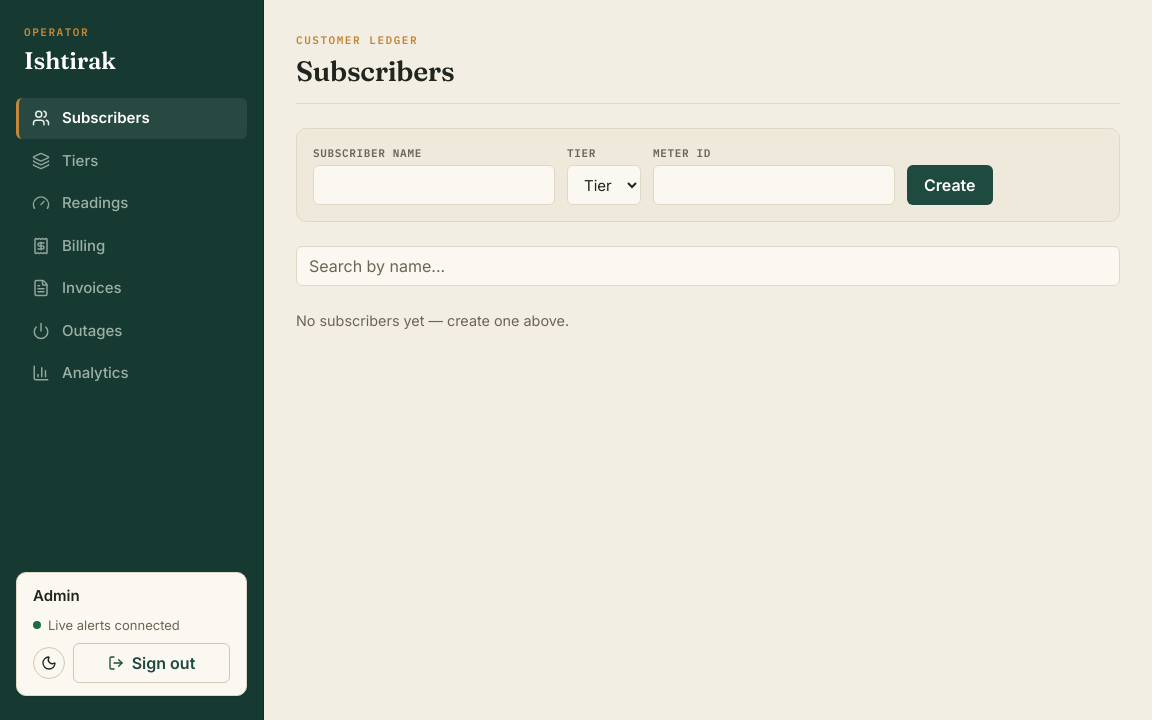
Scenario: operator form error handling › surfaces a gateway error when creating a subscriber fails
The image size is (1152, 720).
Expected: the text "Customer ledger" is shown, [296, 33, 418, 47]
Type "Maya" into the field labelled "Subscriber name" at (434, 185), box [313, 165, 555, 205]
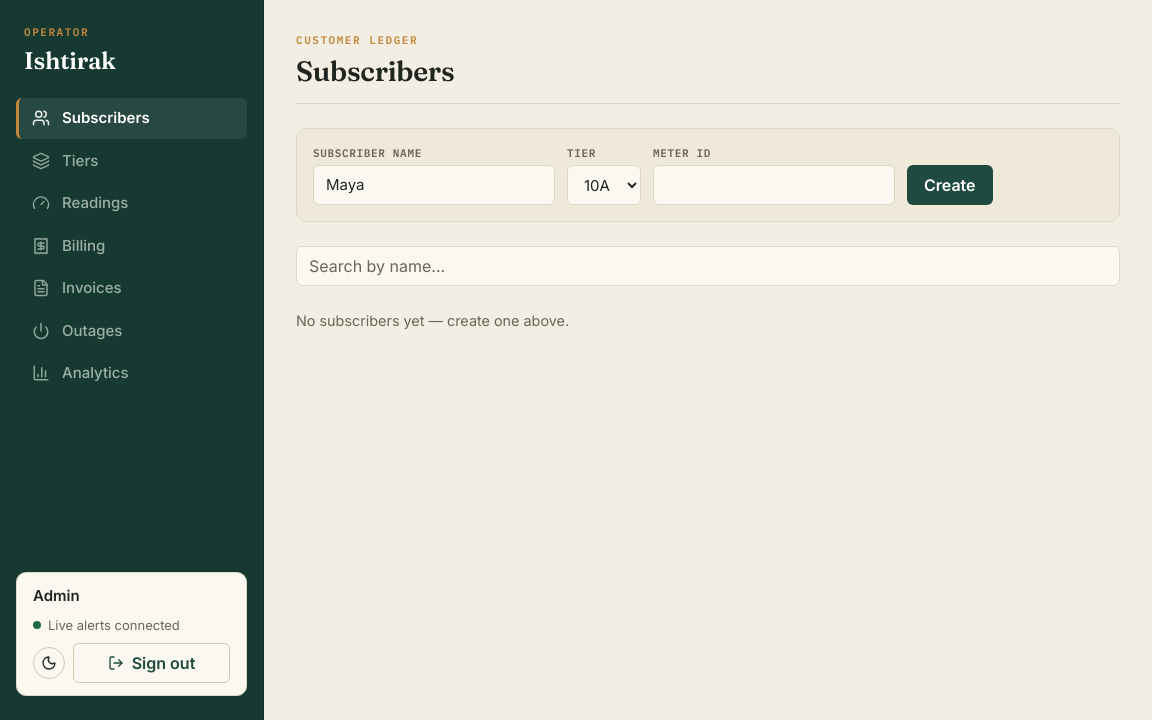
Select "10A" in the dropdown at (604, 185), box [567, 165, 641, 205]
Click the button "Create" at (950, 185), box [907, 165, 992, 205]
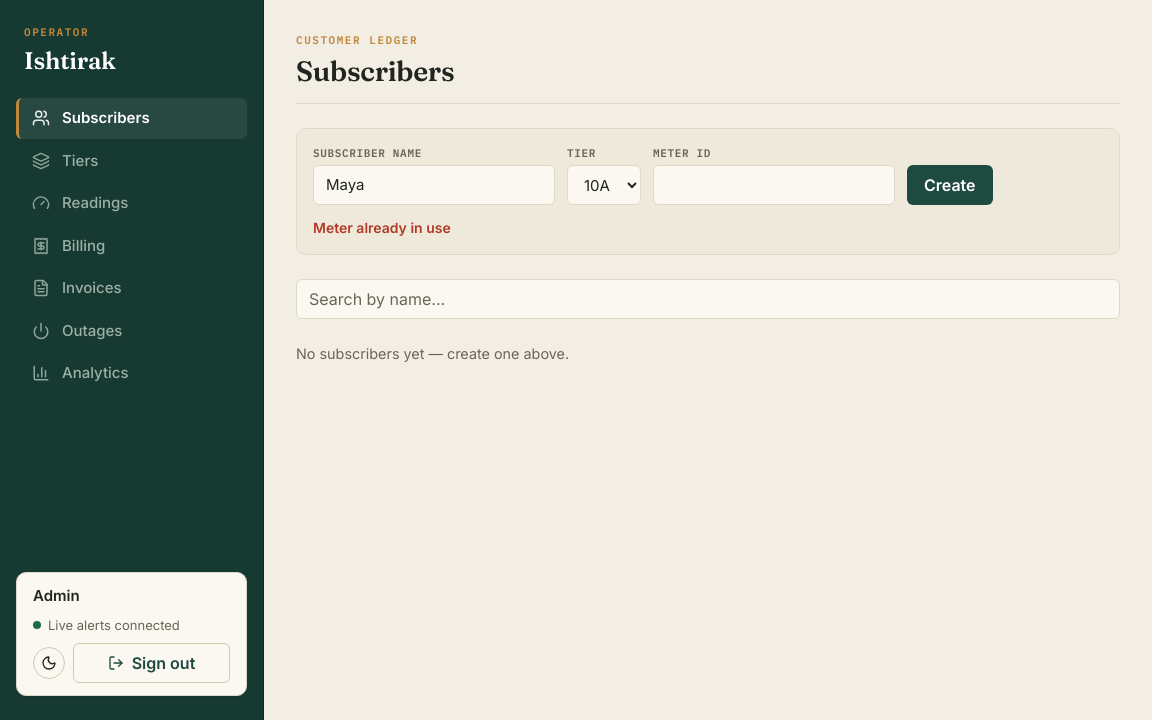
Result: the text "Meter already in use" is shown at [313, 217, 451, 238]
